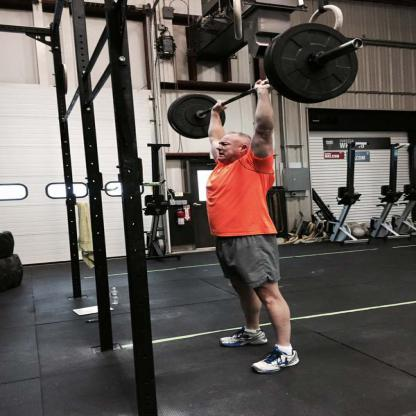Barbell: (263, 19, 367, 106)
